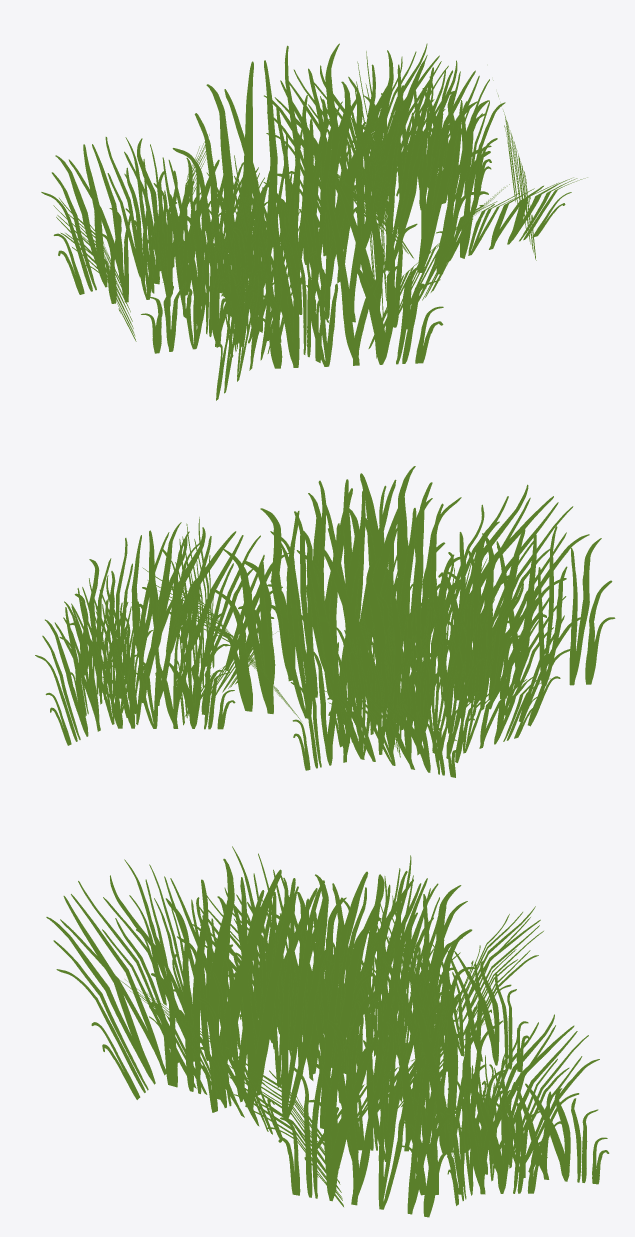
The model's file is MEADOW_SM_Grass_01_03.gltf.
3 views of the same model, one above another, from view 1: azimuth 30°, elevation 25°; view 2: azimuth 150°, elevation 25°; view 3: azimuth 270°, elevation 25° (orthographic). The views are drawn at different scales.
Parts seen in each view (by area): view 1: SM_Grass_01_03_LOD0; view 2: SM_Grass_01_03_LOD0; view 3: SM_Grass_01_03_LOD0.
Part boxes in pixels (x1=…): SM_Grass_01_03_LOD0: x1=41, y1=43, x2=587, y2=400; SM_Grass_01_03_LOD0: x1=35, y1=466, x2=615, y2=777; SM_Grass_01_03_LOD0: x1=46, y1=846, x2=609, y2=1217.
Bounding box in the file's own units: 0.8435 × 0.3692 × 0.8547.
Materials: 1 (1 with a texture image).
